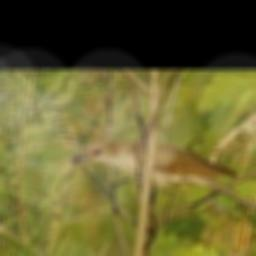Cuckoo: (71, 140, 256, 229)
